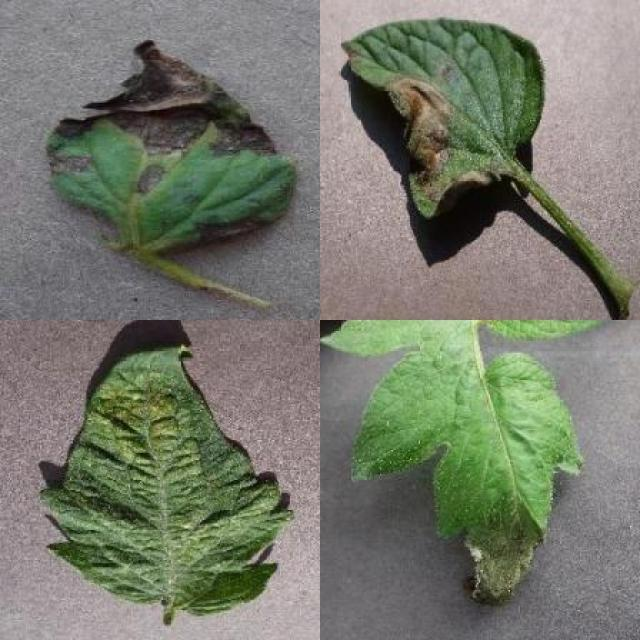Early Blight: (43, 37, 296, 259)
Late Blight: (320, 320, 583, 607), (342, 17, 544, 224)
Spider Mites: (37, 343, 293, 618)
